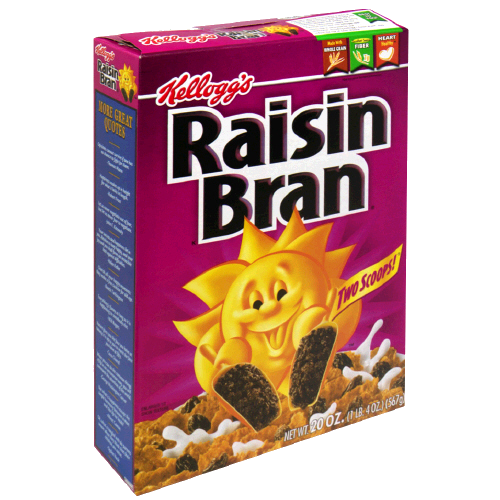grozi_94: (94, 9, 408, 496)
